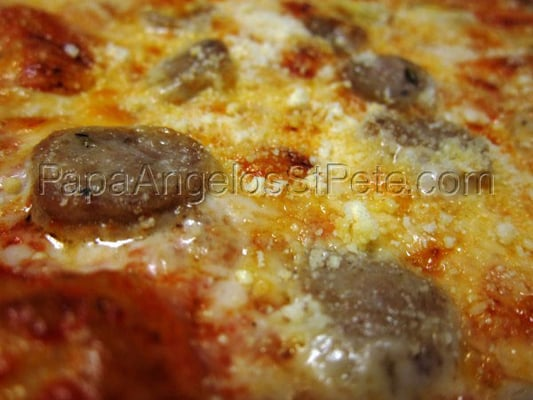sandwich: (2, 1, 533, 399)
